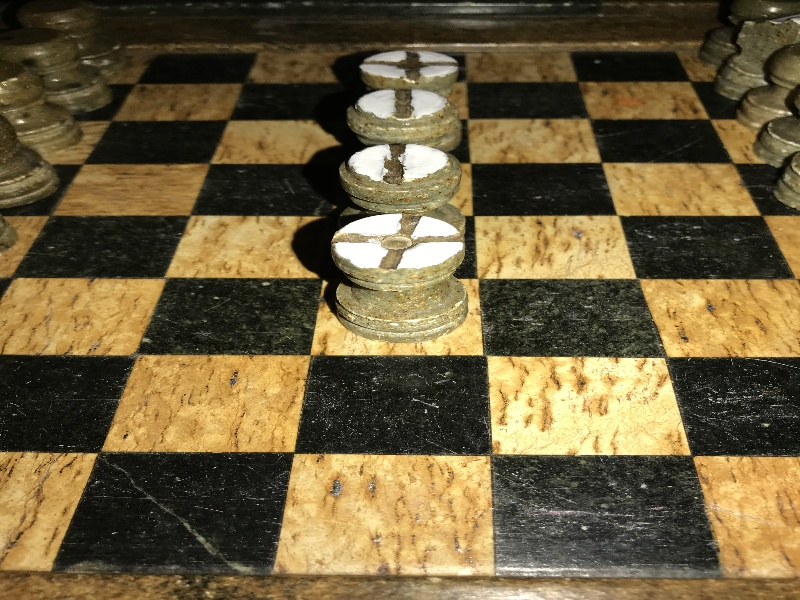WhiteBishop: (331, 213, 467, 341), (359, 50, 459, 103)
WhiteRook: (346, 86, 459, 194), (337, 142, 461, 232)
